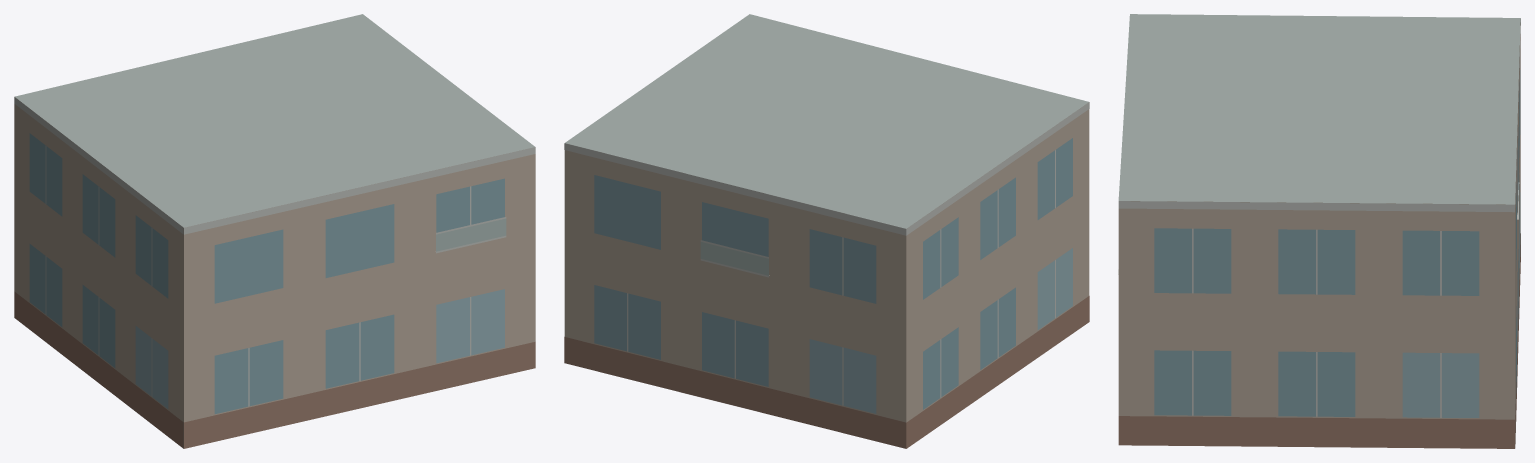
Rendered from survey-upis-32766100.glb.
The picture shows the model from 3 angles, left to right: view 1: azimuth 30°, elevation 25°; view 2: azimuth 150°, elevation 25°; view 3: azimuth 270°, elevation 25°; orthographic projection. The views are drawn at different scales.
Visible parts, largest first — view 1: survey-upis-32766100.tmp; view 2: survey-upis-32766100.tmp; view 3: survey-upis-32766100.tmp.
Boxes of the visible parts, left/top/right/bottom form: survey-upis-32766100.tmp: left=14, top=14, right=535, bottom=448; survey-upis-32766100.tmp: left=564, top=14, right=1089, bottom=448; survey-upis-32766100.tmp: left=1118, top=14, right=1520, bottom=448.
Size of the model in its own units: 13.05 by 7.8 by 11.65.
